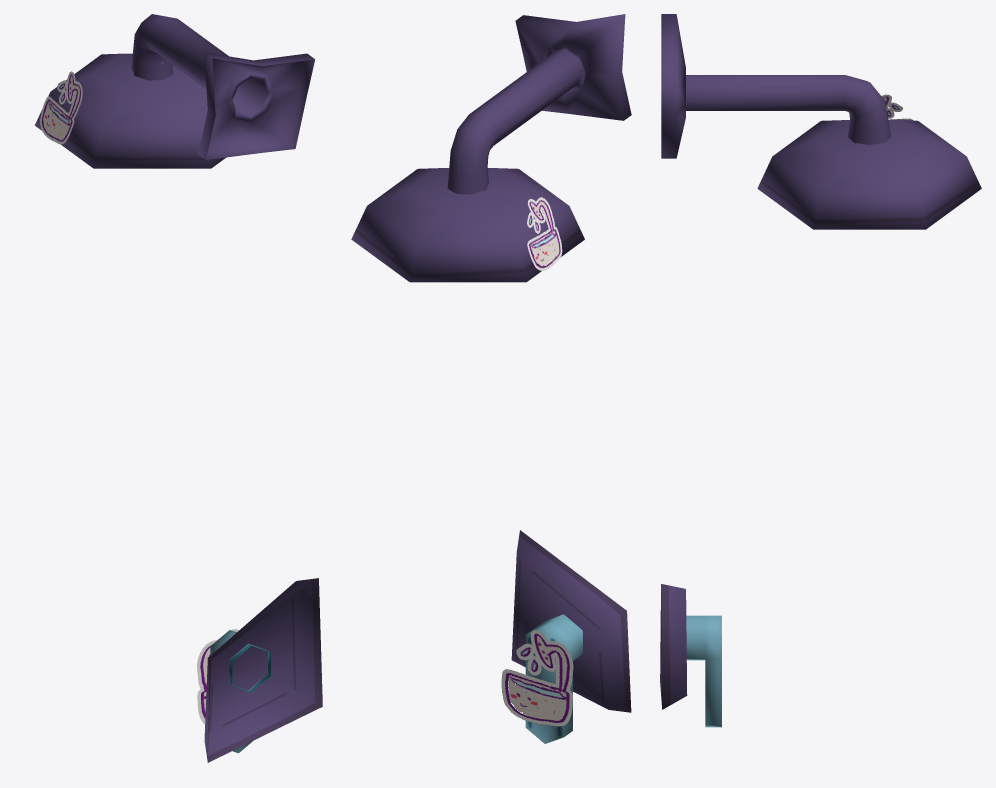
The model's file is DUCHA.fbx.
The picture shows the model from 3 angles, left to right: view 1: azimuth 30°, elevation 25°; view 2: azimuth 150°, elevation 25°; view 3: azimuth 270°, elevation 25°; orthographic projection. The views are drawn at different scales.
Parts seen in each view (by area): view 1: ducha_base_regadera, Plane.008, Plane.005; view 2: ducha_base_regadera, Plane.005, Plane.008; view 3: ducha_base_regadera.
Part boxes in pixels (x1,y1,x2,y2): ducha_base_regadera: (34, 14, 322, 762); Plane.008: (40, 71, 82, 144); Plane.005: (197, 629, 238, 724); ducha_base_regadera: (351, 14, 631, 743); Plane.005: (501, 630, 573, 726); Plane.008: (527, 197, 562, 270); ducha_base_regadera: (660, 14, 981, 727).
Bounding box in the file's own units: 191 × 711 × 295.
2 materials, 2 textured.
